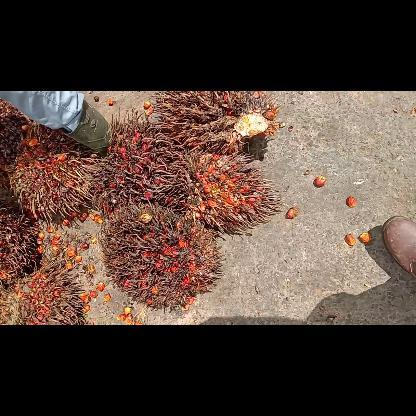Terlalu masak: (96, 200, 228, 314), (89, 108, 206, 216), (168, 146, 286, 238), (146, 91, 290, 159)
